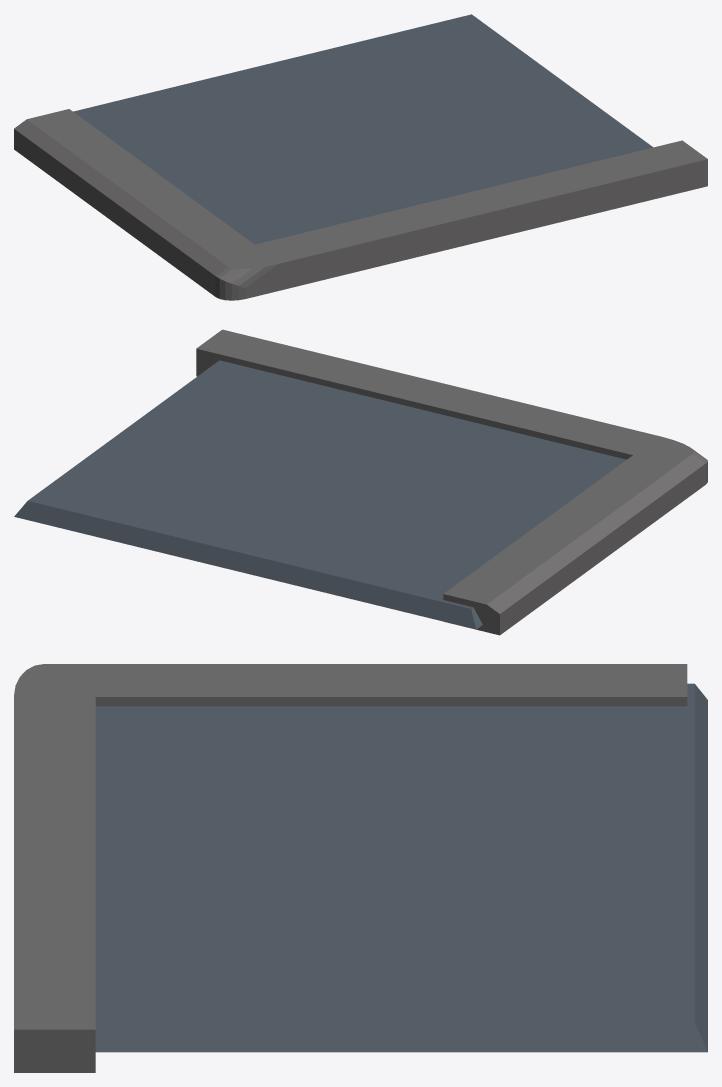
Rendered from SidewalkCorner.fbx.
3 renders of one model, top to bottom at view 1: azimuth 30°, elevation 25°; view 2: azimuth 150°, elevation 25°; view 3: azimuth 270°, elevation 25°, orthographic. The views are drawn at different scales.
Parts seen in each view (by area): view 1: SidewalkTileCorner; view 2: SidewalkTileCorner; view 3: SidewalkTileCorner.
Part boxes in pixels (x1,y1,x2,y2): SidewalkTileCorner: (14, 14, 707, 300); SidewalkTileCorner: (14, 329, 707, 635); SidewalkTileCorner: (14, 664, 707, 1072).
Bounding box in the file's own units: 156 × 8.36 × 122.
